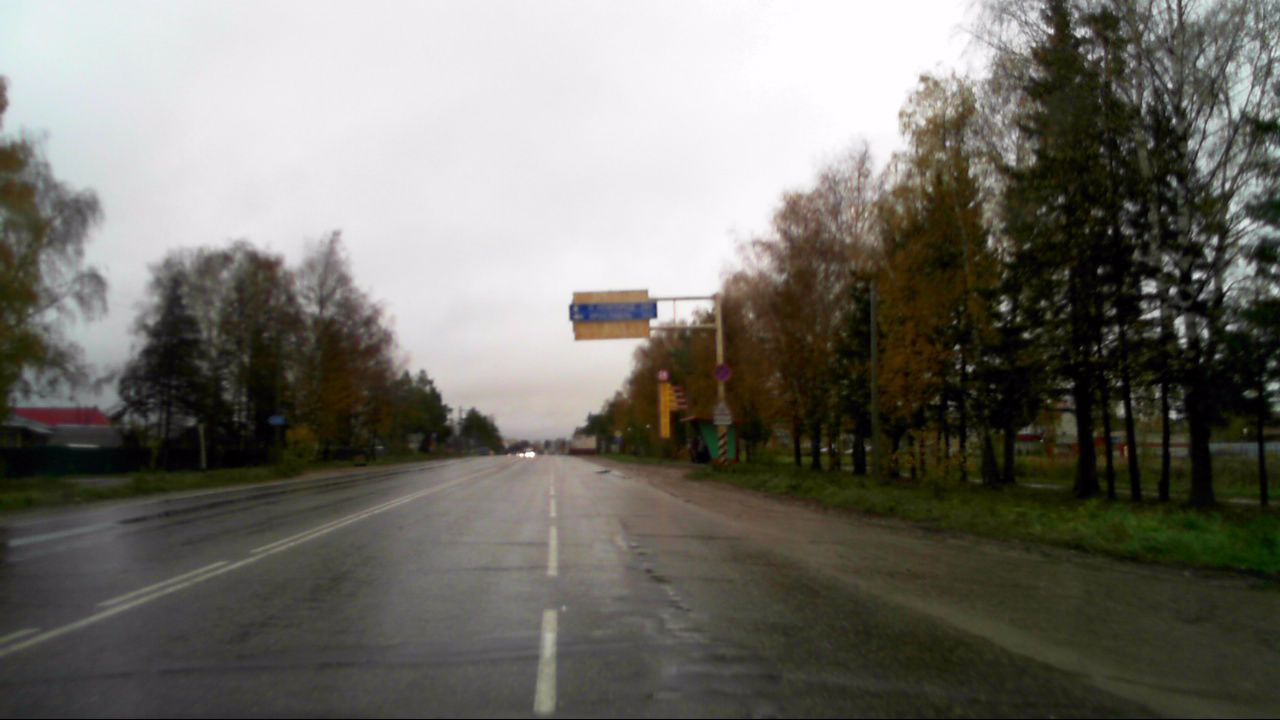No Parking: (713, 361, 732, 381)
